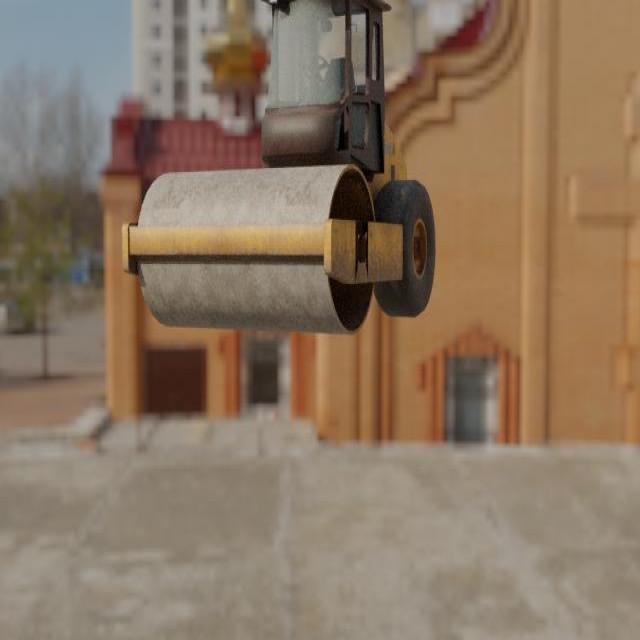Roller: (122, 0, 436, 336)
